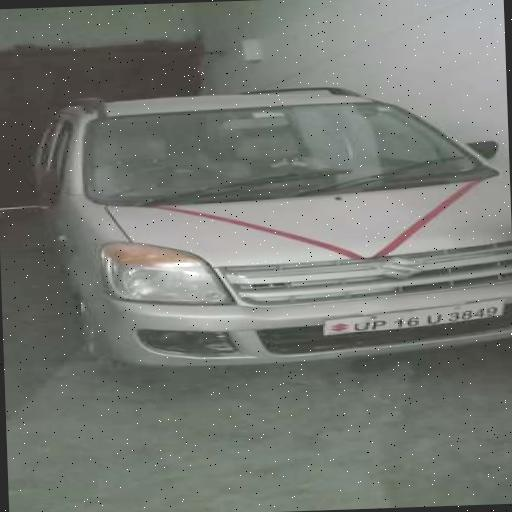license_plate`: (318, 296, 502, 335)
